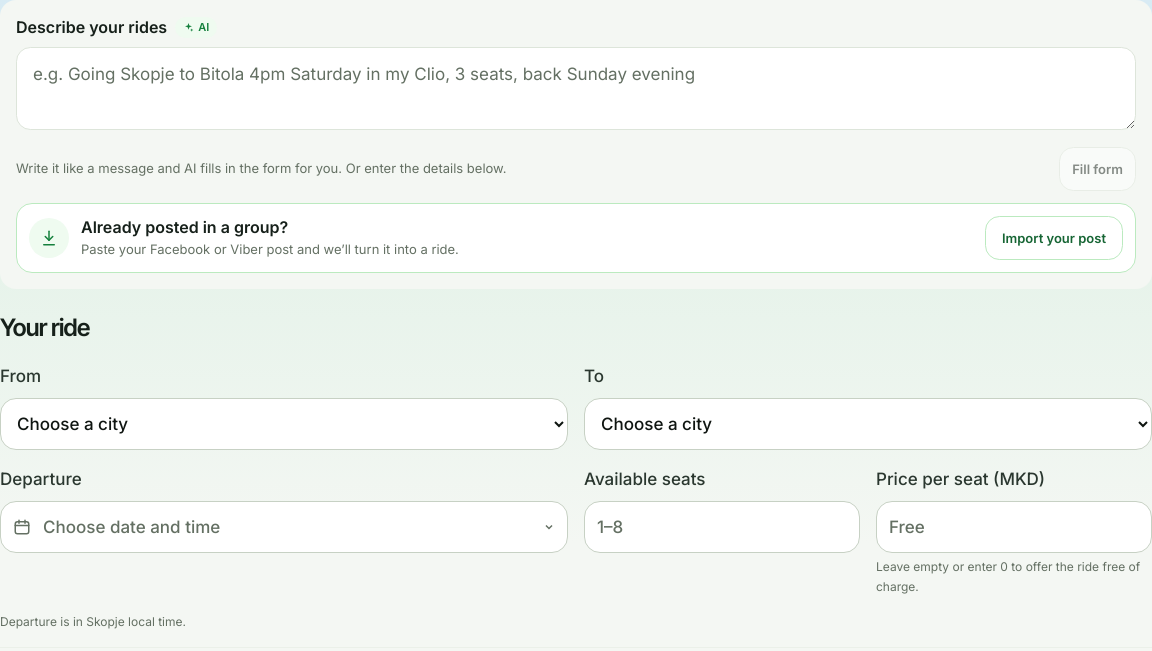
starts over with one blank draft, keeps the description, and can undo
Replace the text in the text box labelled "Describe your rides" with "two trips" at (576, 89), box 16,47 -> 1136,130
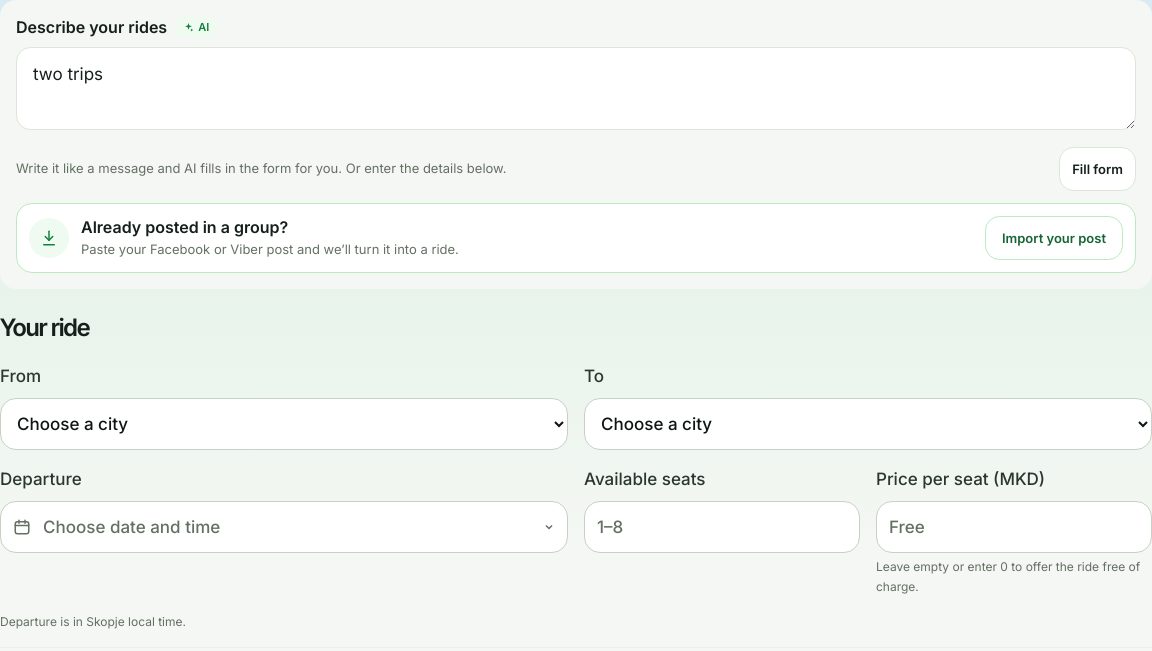
Click the button "Fill form" at (1098, 169), box 1059,147 -> 1136,191
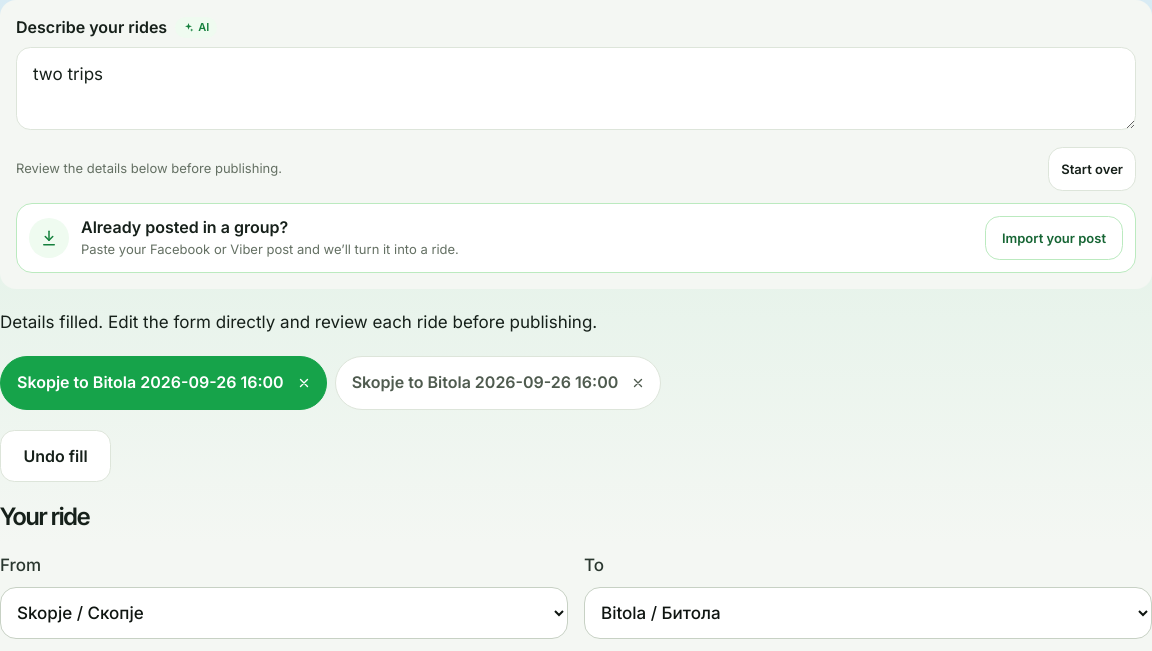
Expected: the number of tabs is 2, 1,357 -> 288,409; 336,357 -> 622,409
Click the button "Start over" at (1092, 169), box 1048,147 -> 1136,191
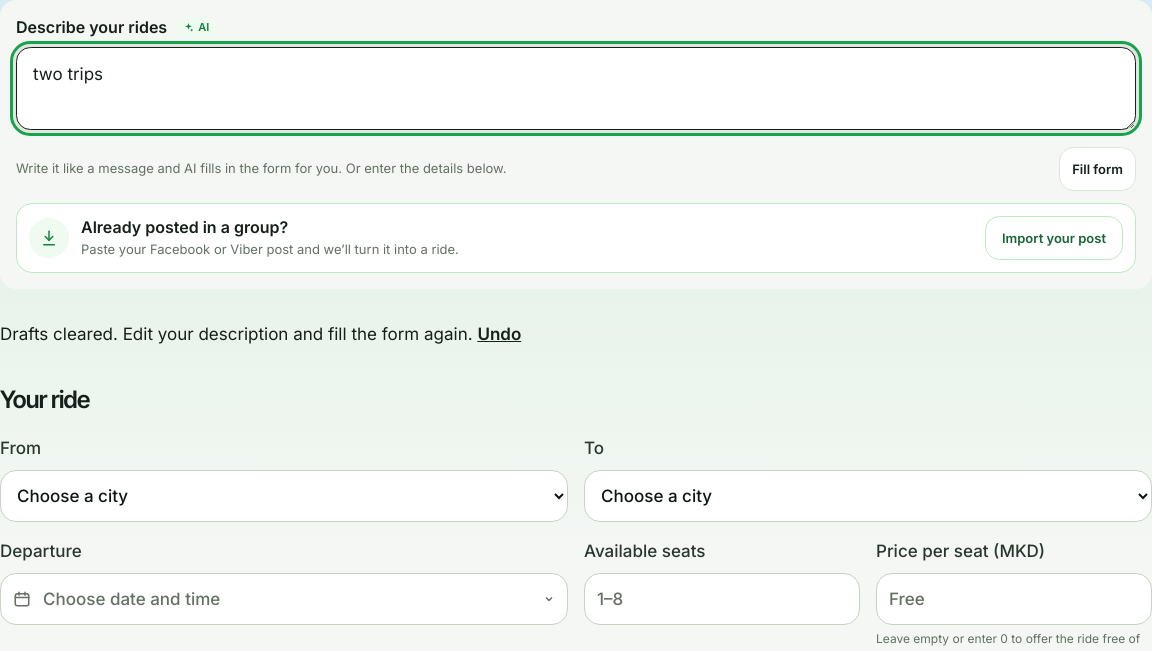
Expected: the dropdown labelled "From" shows "Choose a city", 0,470 -> 568,522
Expected: the button "Fill form" is shown, 1059,147 -> 1136,191
Click the button "Undo" at (499, 335), box 477,309 -> 521,361
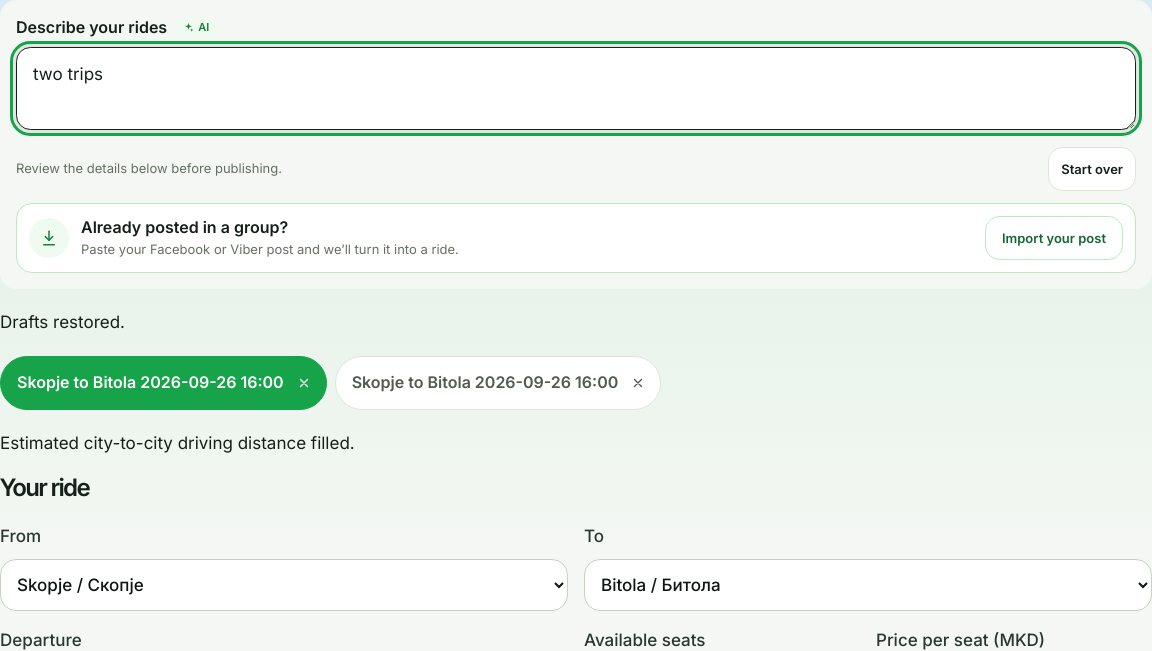
Expected: the number of tabs is 2, 1,357 -> 288,409; 336,357 -> 622,409
Expected: the dropdown labelled "From" shows "Skopje / Скопје", 0,558 -> 568,610
Expected: the button "Start over" is shown, 1048,147 -> 1136,191
